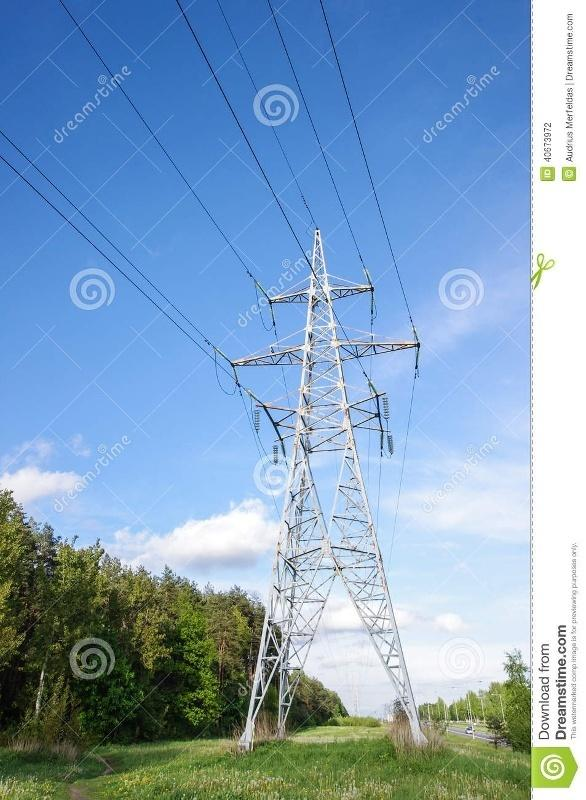power_tower: (215, 229, 450, 752)
